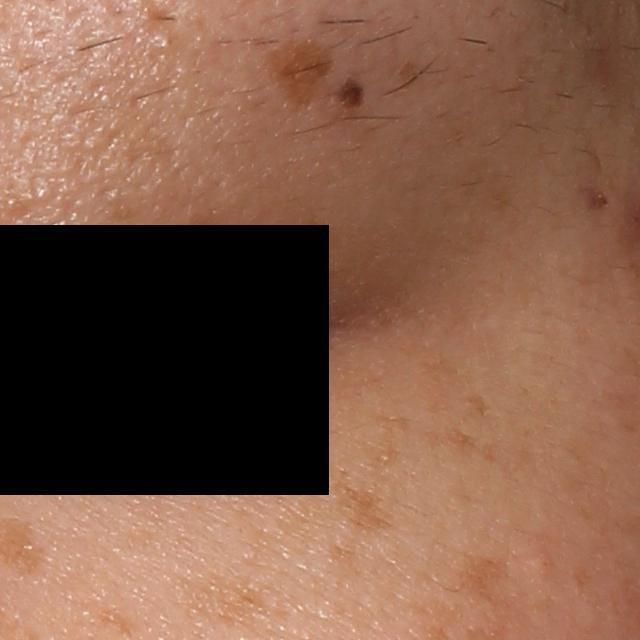melasma: (244, 27, 372, 118), (319, 455, 406, 541), (178, 566, 271, 632), (451, 548, 512, 616), (421, 422, 503, 466), (366, 407, 417, 472), (465, 393, 493, 418)
nevus: (331, 76, 379, 120)
